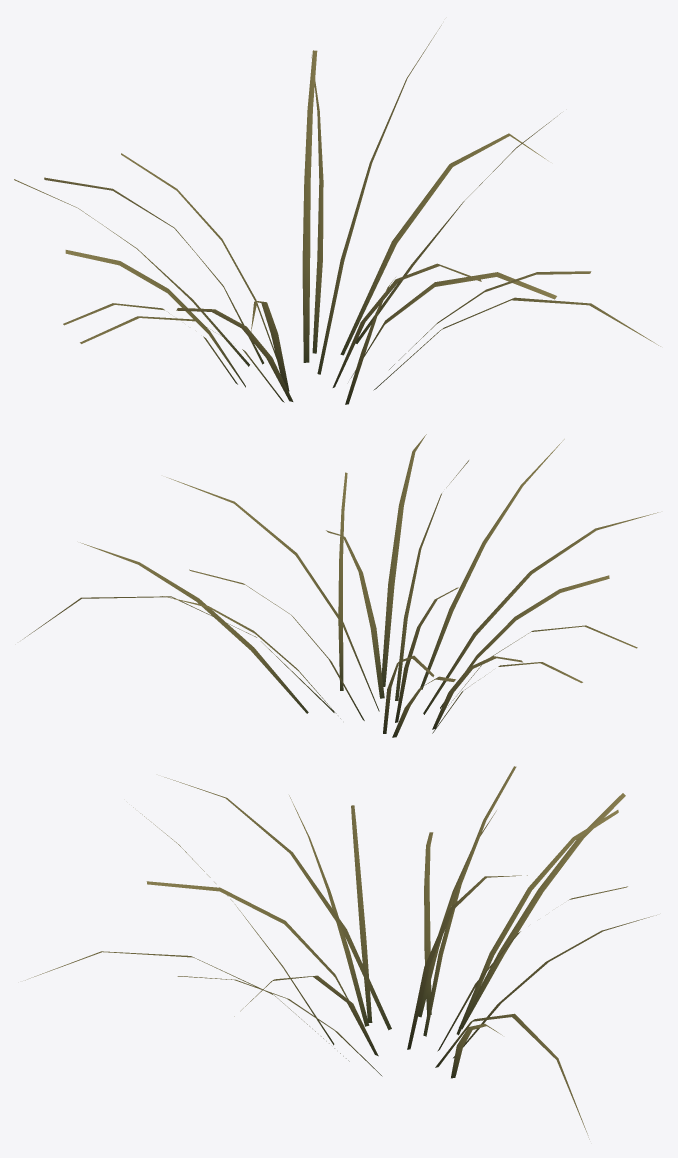
Rendered from b612_veg_VL_Grass_Dry_A_0.glb.
The picture shows the model from 3 angles, top to bottom: view 1: azimuth 30°, elevation 25°; view 2: azimuth 150°, elevation 25°; view 3: azimuth 270°, elevation 25°; orthographic projection. The views are drawn at different scales.
Parts seen in each view (by area): view 1: Grass_Dry_A_LOD0; view 2: Grass_Dry_A_LOD0; view 3: Grass_Dry_A_LOD0.
Boxes of the visible parts, left/top/right/bottom form: Grass_Dry_A_LOD0: left=14, top=25, right=660, bottom=404; Grass_Dry_A_LOD0: left=22, top=434, right=658, bottom=737; Grass_Dry_A_LOD0: left=25, top=766, right=656, bottom=1139.
Size of the model in its own units: 0.4578 by 0.1987 by 0.4402.
